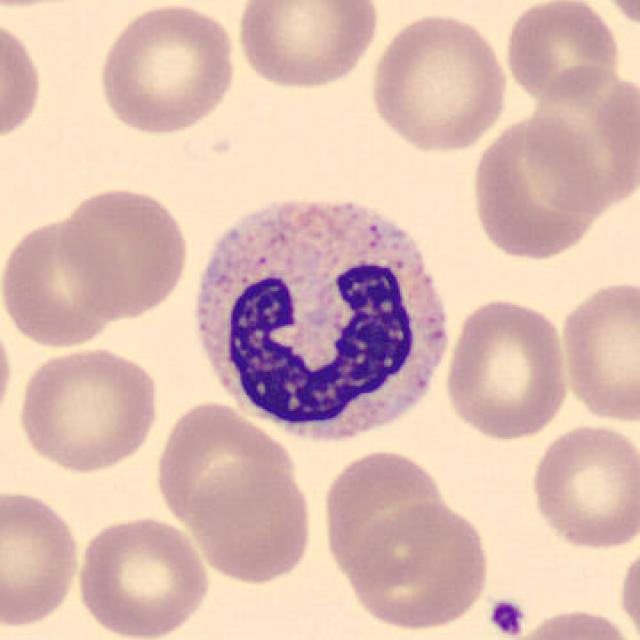Neutrophil: (182, 180, 460, 455)
Platelets: (485, 594, 528, 638)
RBC: (366, 9, 512, 155), (468, 111, 608, 261), (343, 497, 494, 633), (92, 0, 240, 138), (149, 398, 299, 530), (12, 344, 162, 476), (441, 294, 572, 444), (55, 181, 192, 321), (318, 446, 450, 587), (73, 513, 213, 640), (0, 211, 126, 351), (523, 62, 638, 215), (186, 459, 316, 587), (526, 419, 638, 554), (233, 0, 382, 92), (501, 0, 626, 104), (556, 275, 640, 427), (0, 485, 84, 629), (0, 12, 46, 148), (506, 603, 636, 640), (615, 536, 640, 640), (0, 305, 16, 435), (592, 0, 640, 33), (0, 0, 98, 11)
